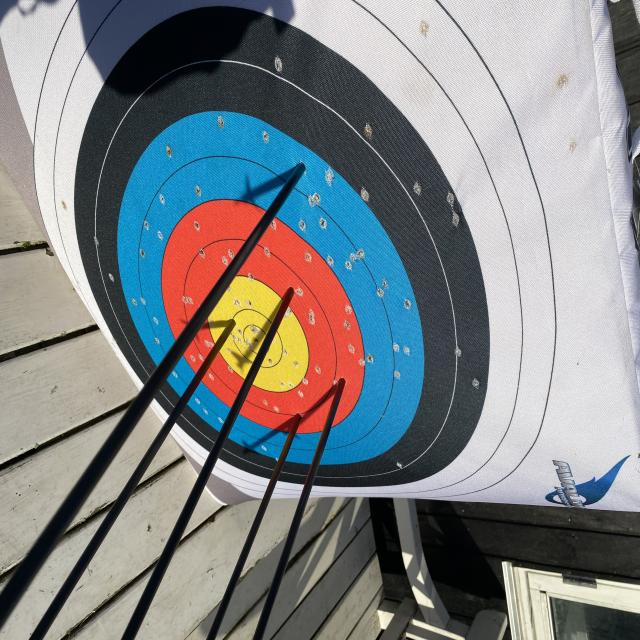Arrow_Blue: (282, 144, 323, 195)
Arrow_Red: (277, 270, 302, 314), (288, 401, 311, 439), (324, 373, 354, 397)
Arrow_Yellow: (224, 309, 243, 340)
